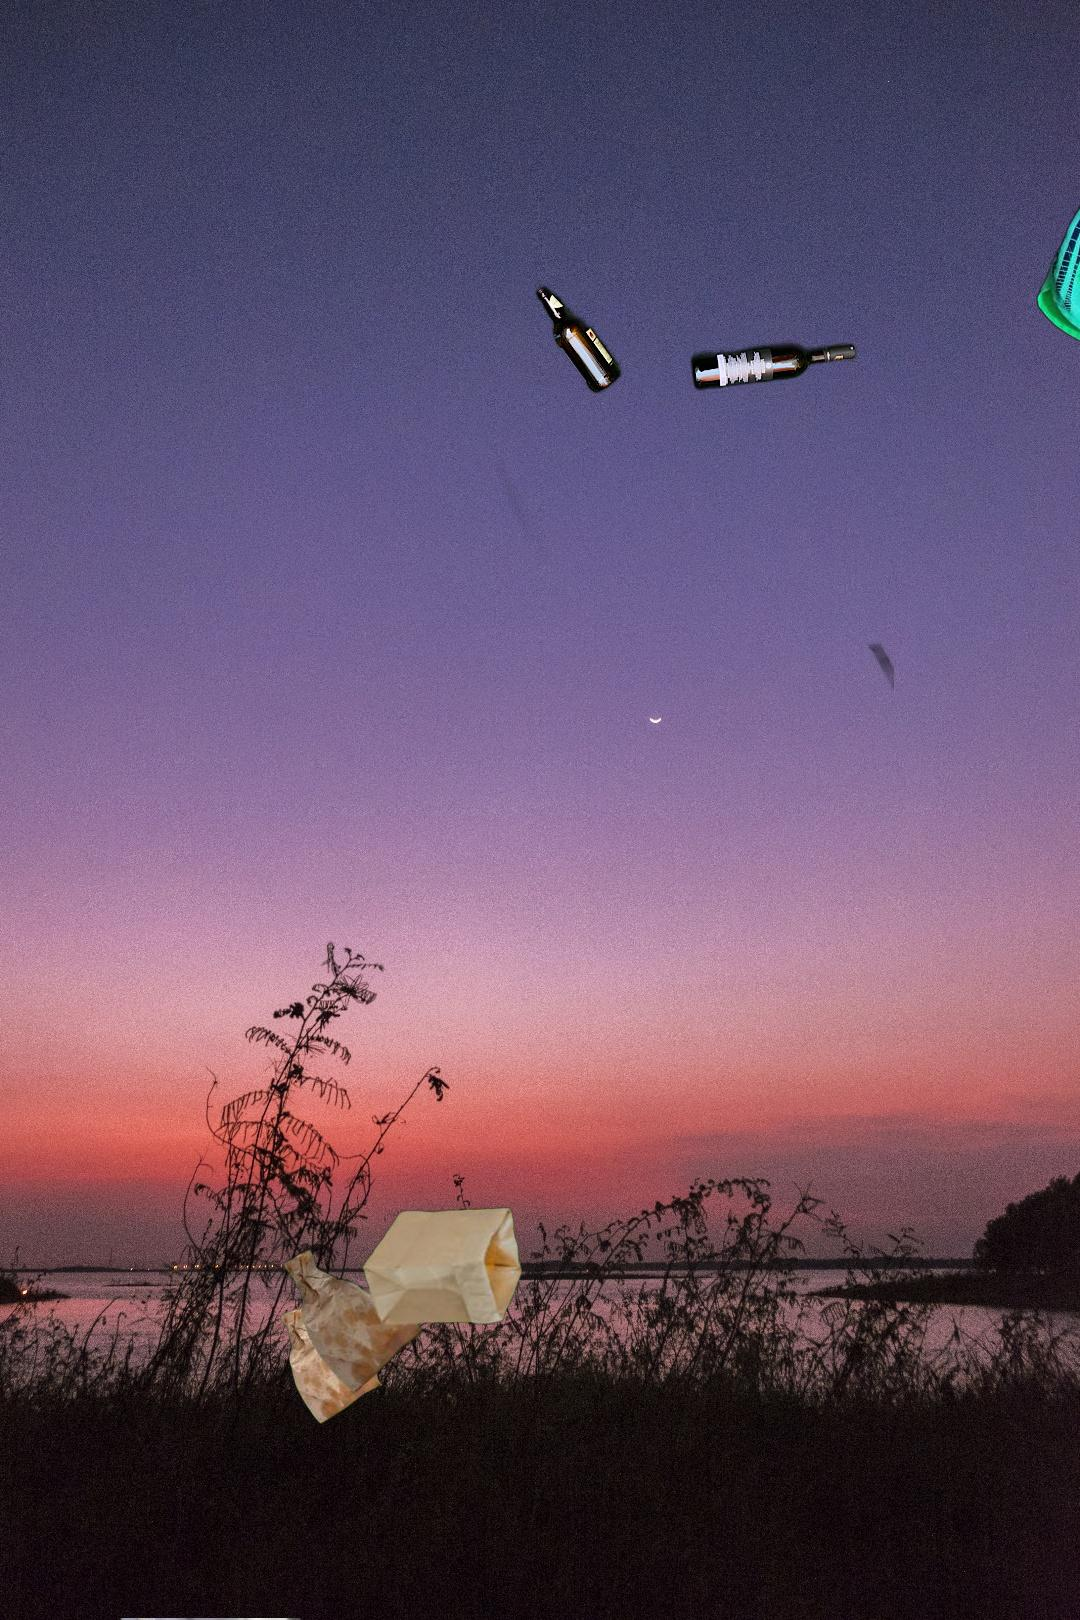clothes: (1033, 139, 1080, 400)
glass: (382, 278, 894, 715)
paper: (58, 1618, 309, 1620)
paper-bag: (278, 1205, 526, 1427)
